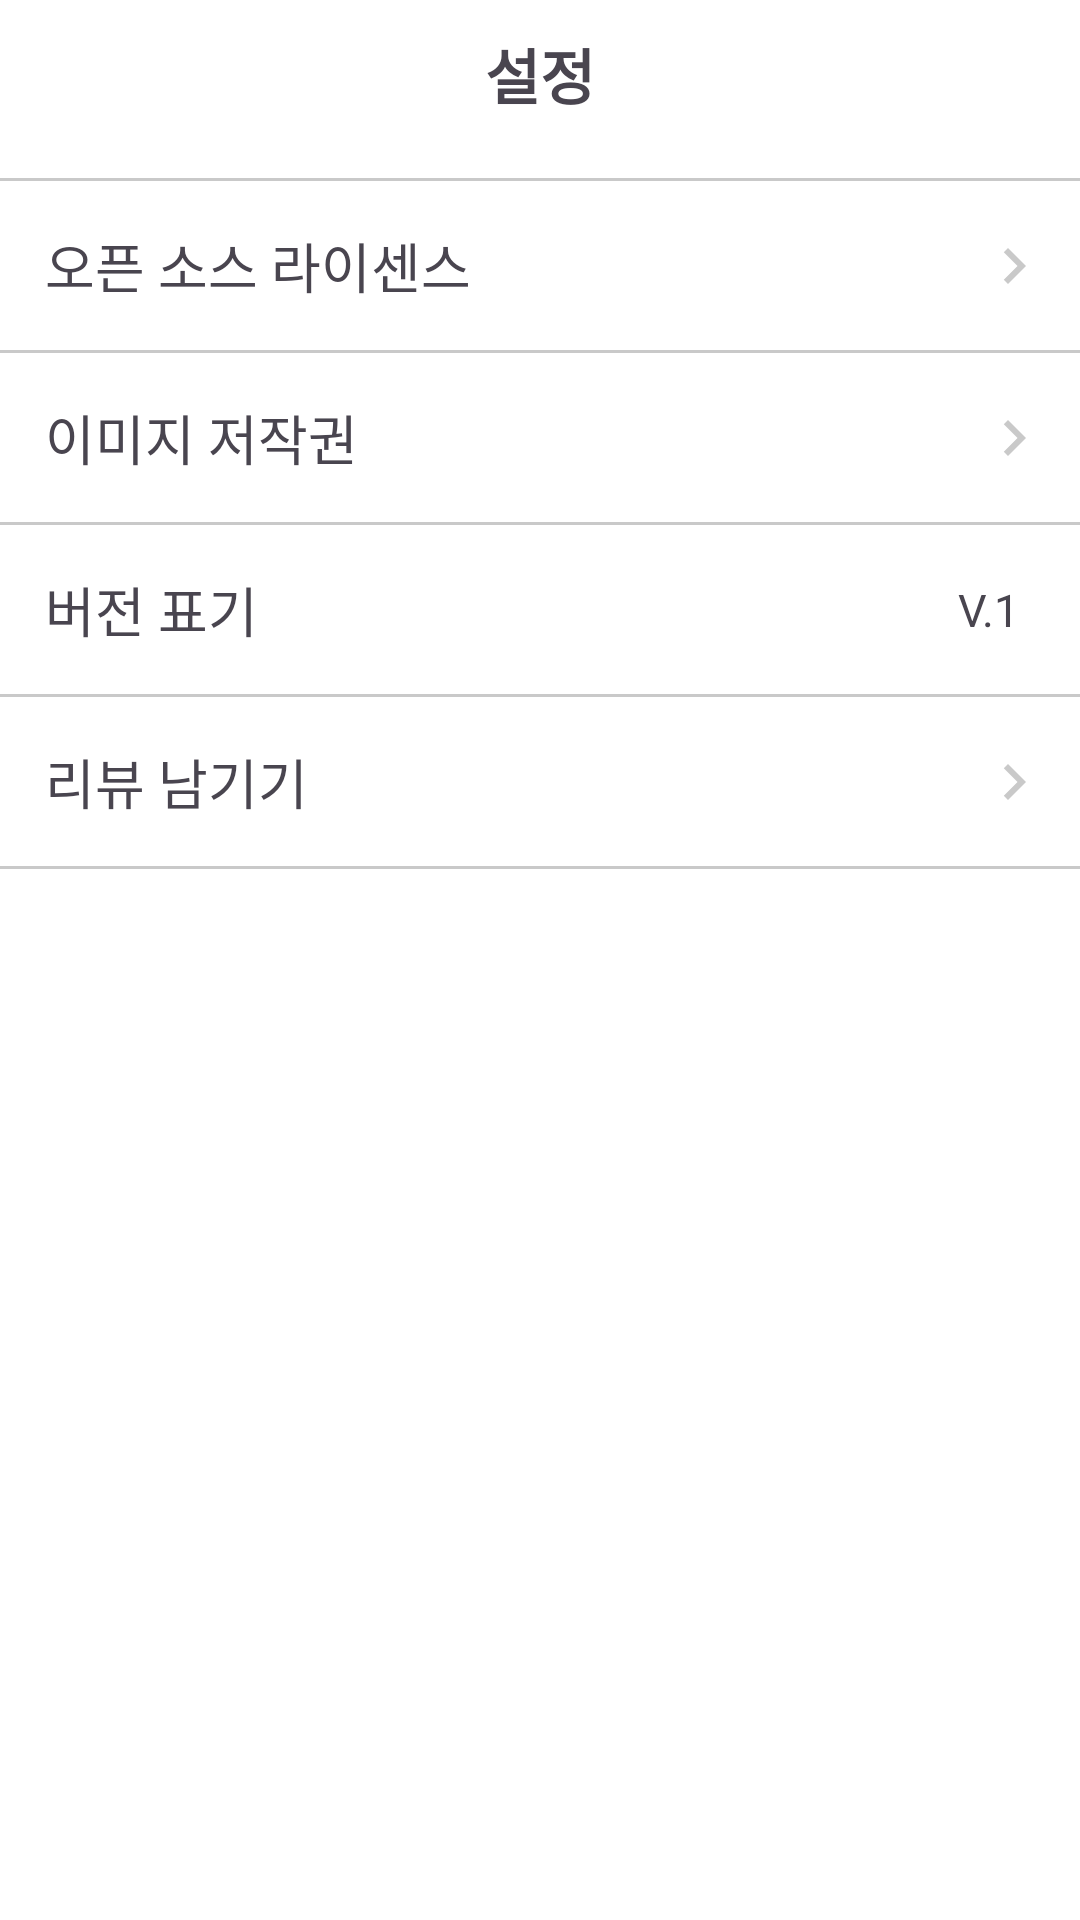

Icon bounding boxes for this 1080*1920 phone screenshot, format box=[x1, y1, x2, y2]:
right arrow: box=[1004, 248, 1026, 284], box=[1004, 420, 1026, 456], box=[1004, 764, 1026, 800]
